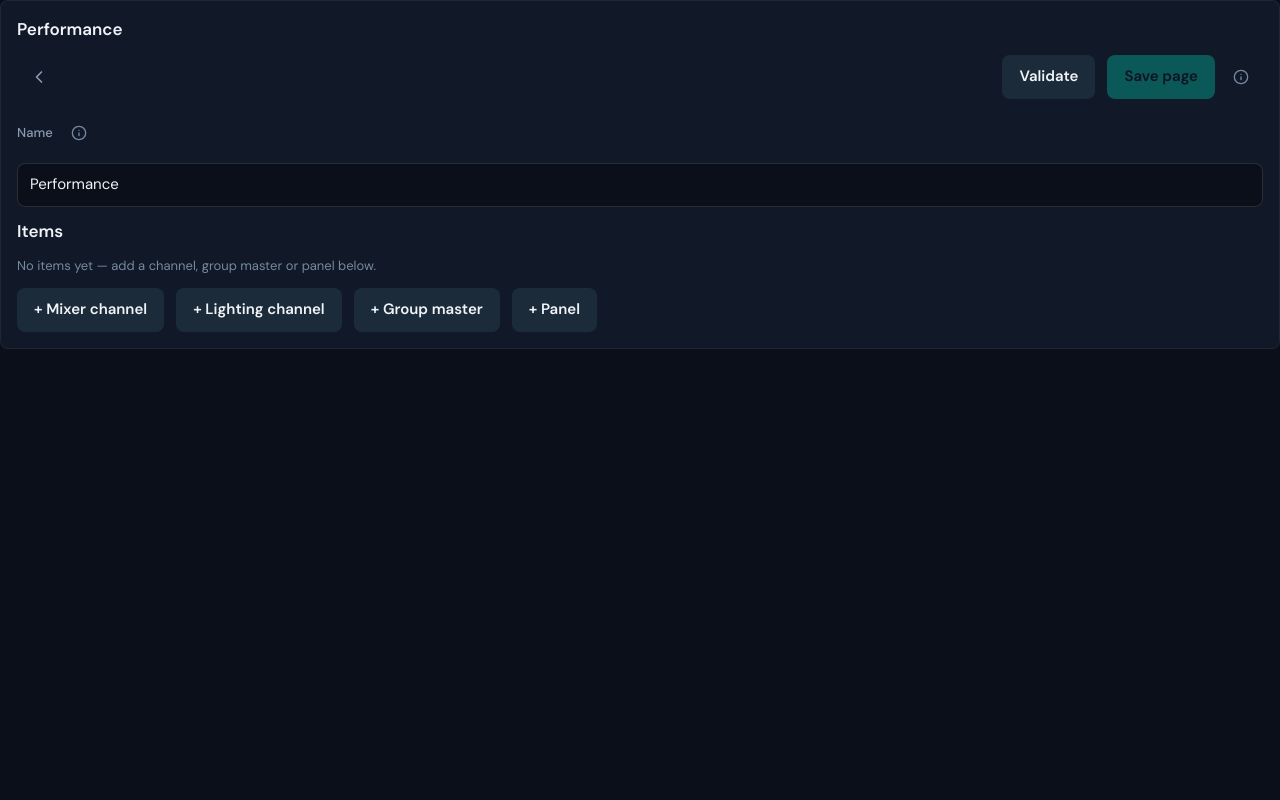
it: PageEditor › resets the form to the server's version on Reload theirs
Replace the text in the field labelled "Name" with "Mine" at (640, 184), box [17,162,1263,206]
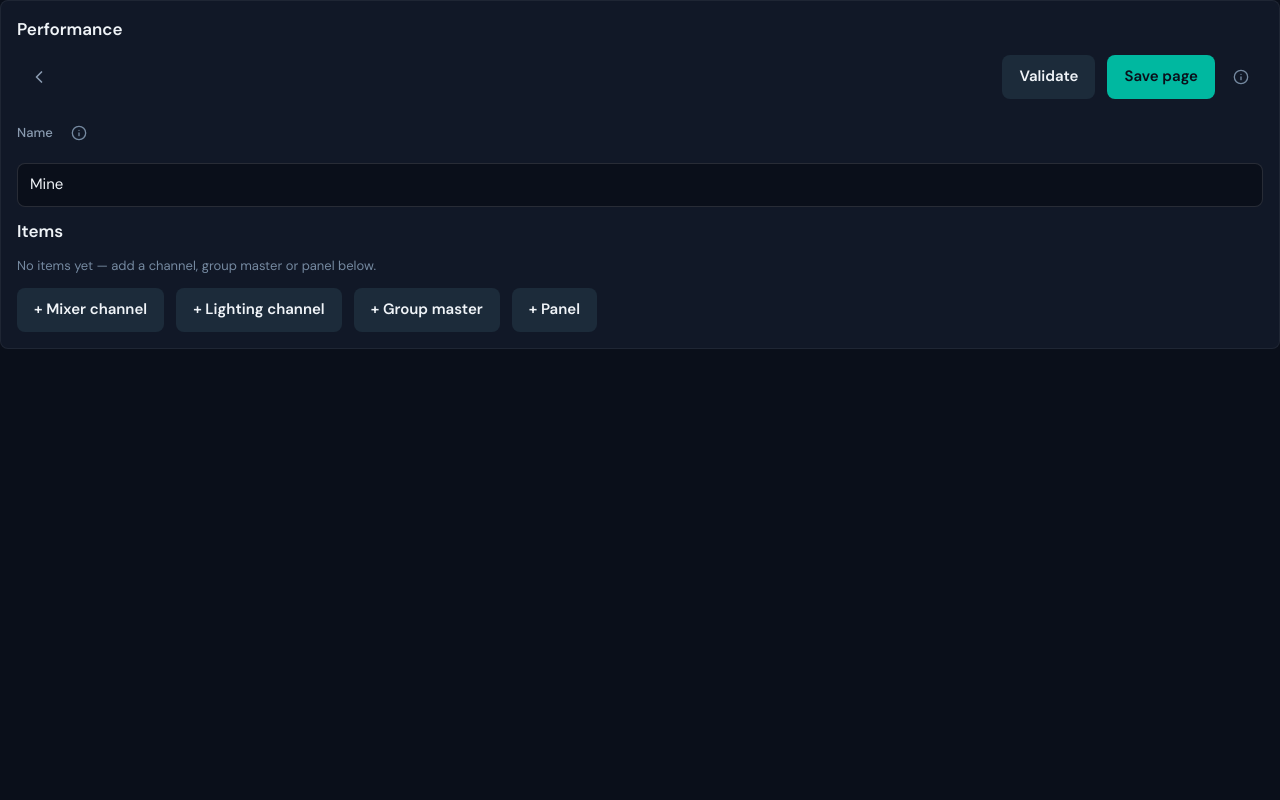
Click the button "Save page" at (1161, 76), box [1108,54,1215,98]
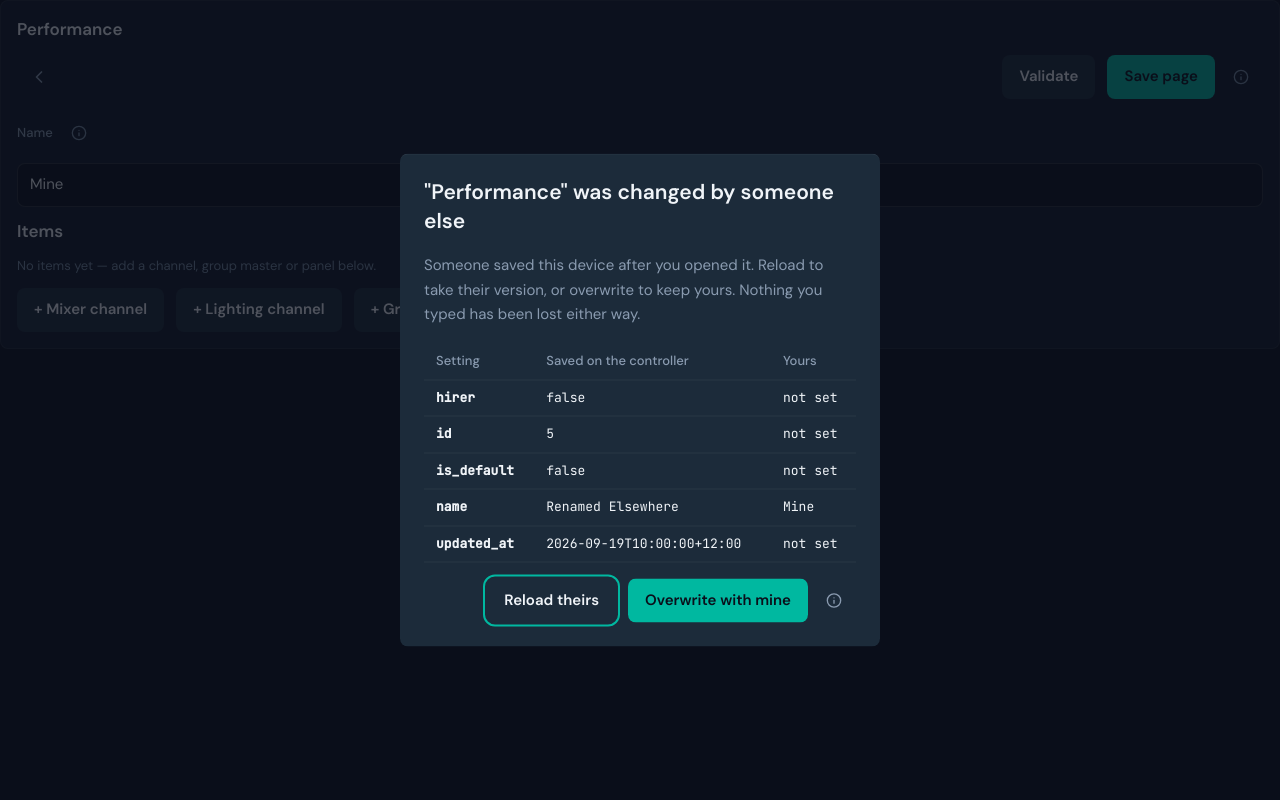
Click the button "Reload theirs" at (552, 600), box [487,578,616,622]
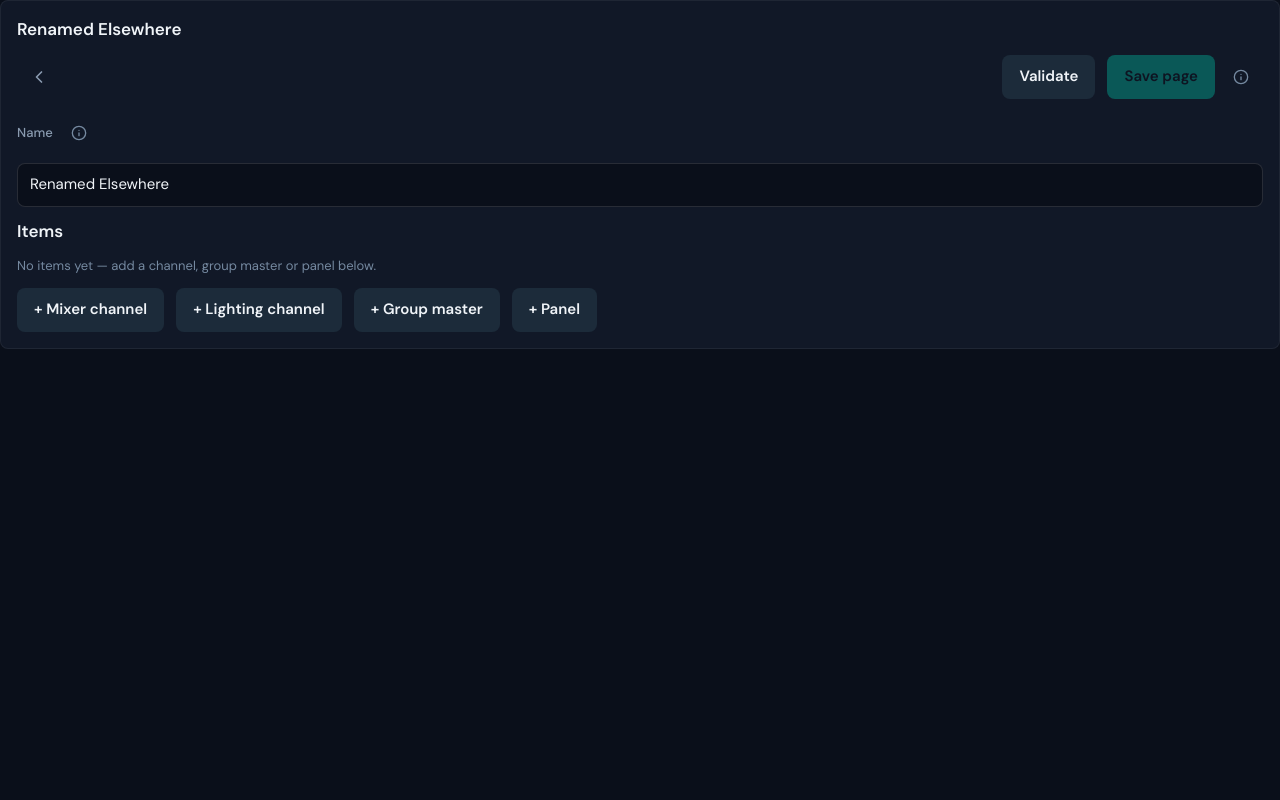
expect the field showing "Renamed Elsewhere" is shown: met, box [17,162,1263,206]
